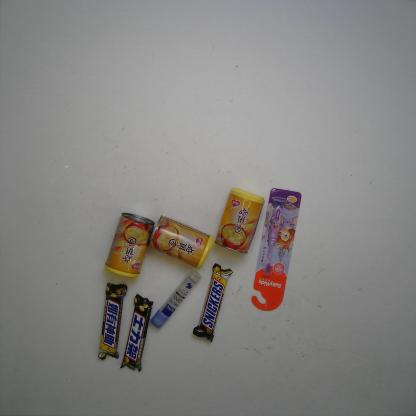Canned Food: (146, 214, 214, 270), (213, 186, 266, 254), (104, 211, 156, 279)
Chocolate: (192, 262, 235, 343), (120, 293, 155, 372), (97, 282, 128, 360)
Personal Hygiene: (250, 187, 302, 312)
Stationery: (150, 268, 202, 330)
